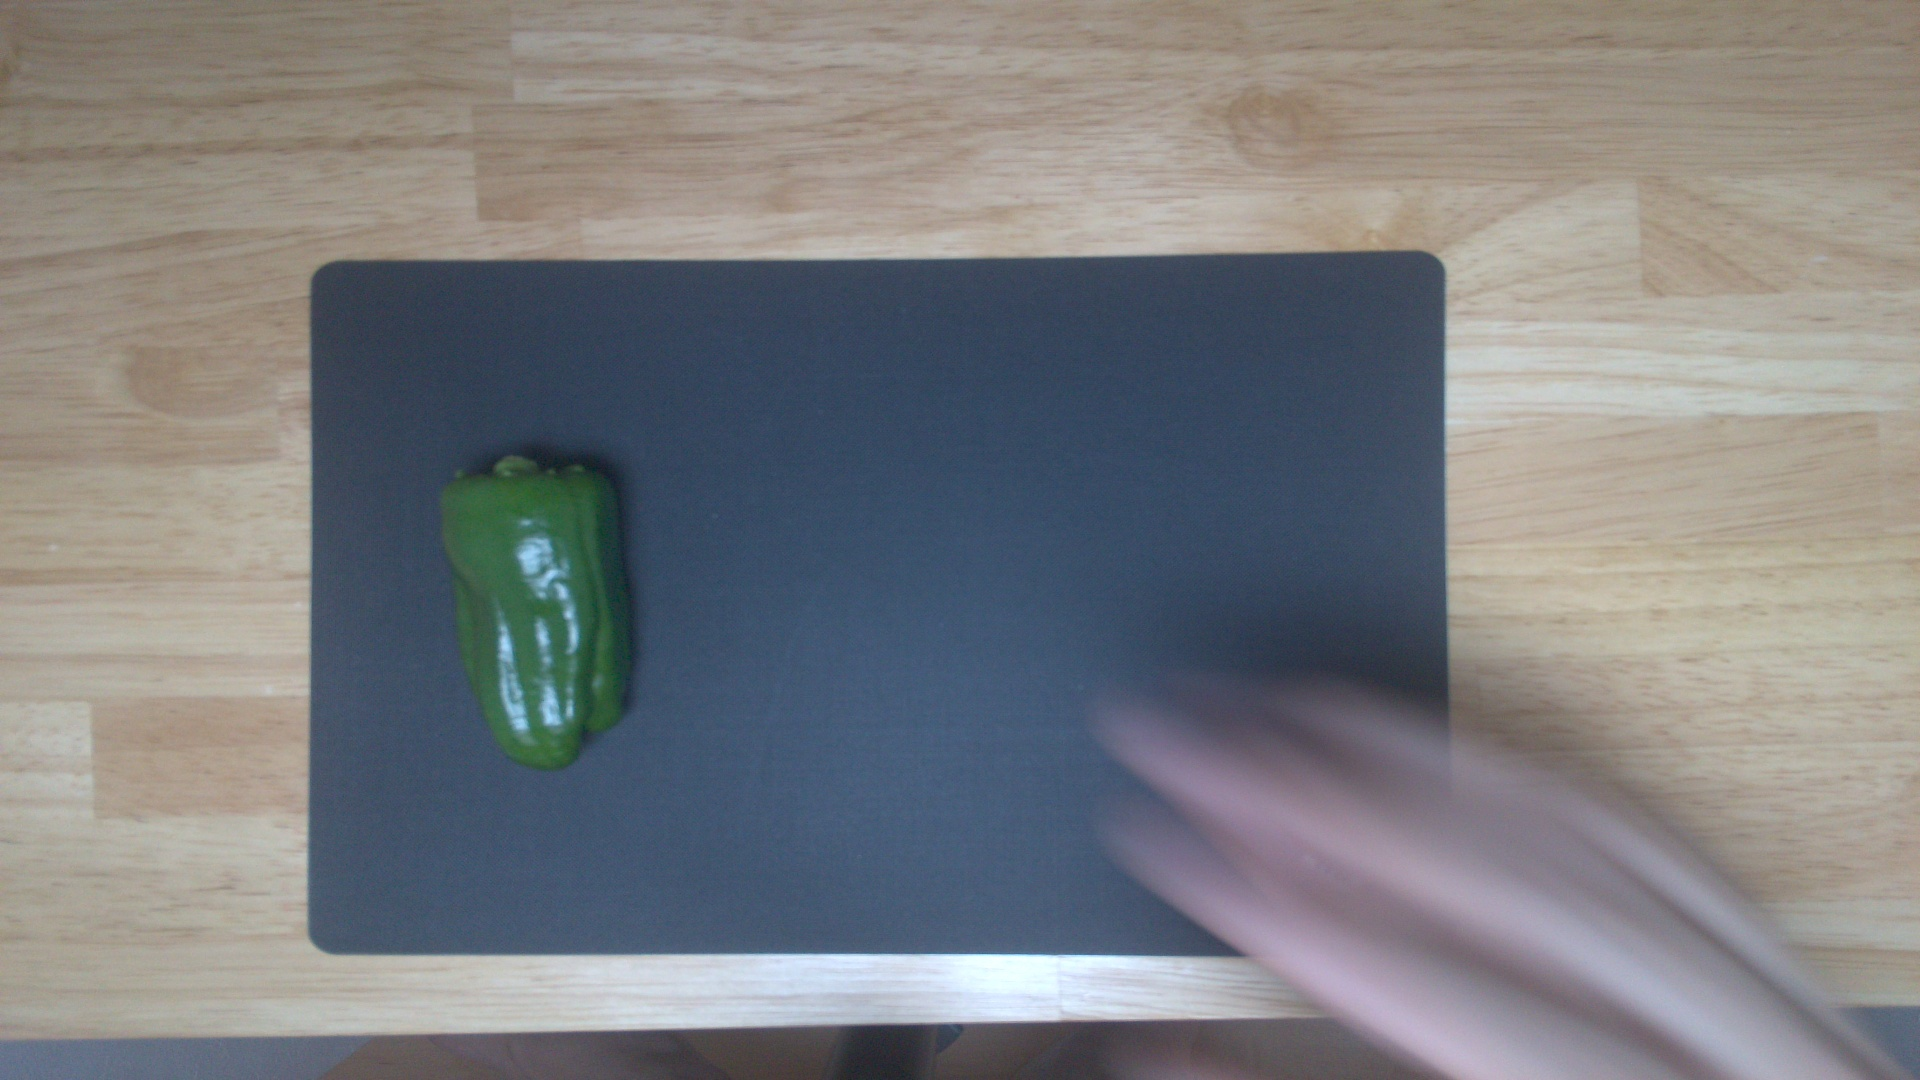Piman: (434, 452, 638, 778)
